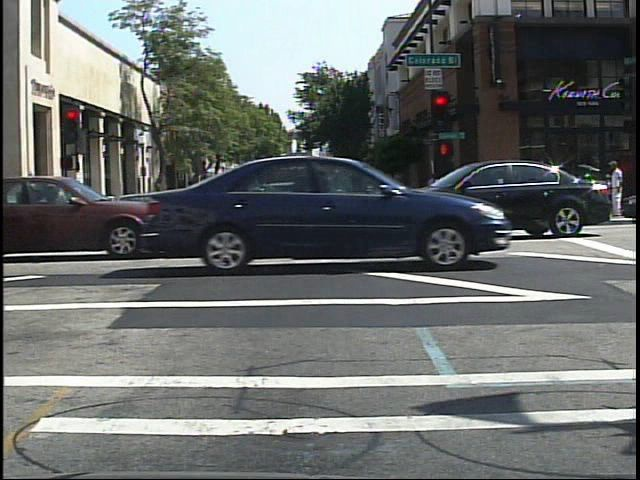person: (604, 156, 631, 221)
